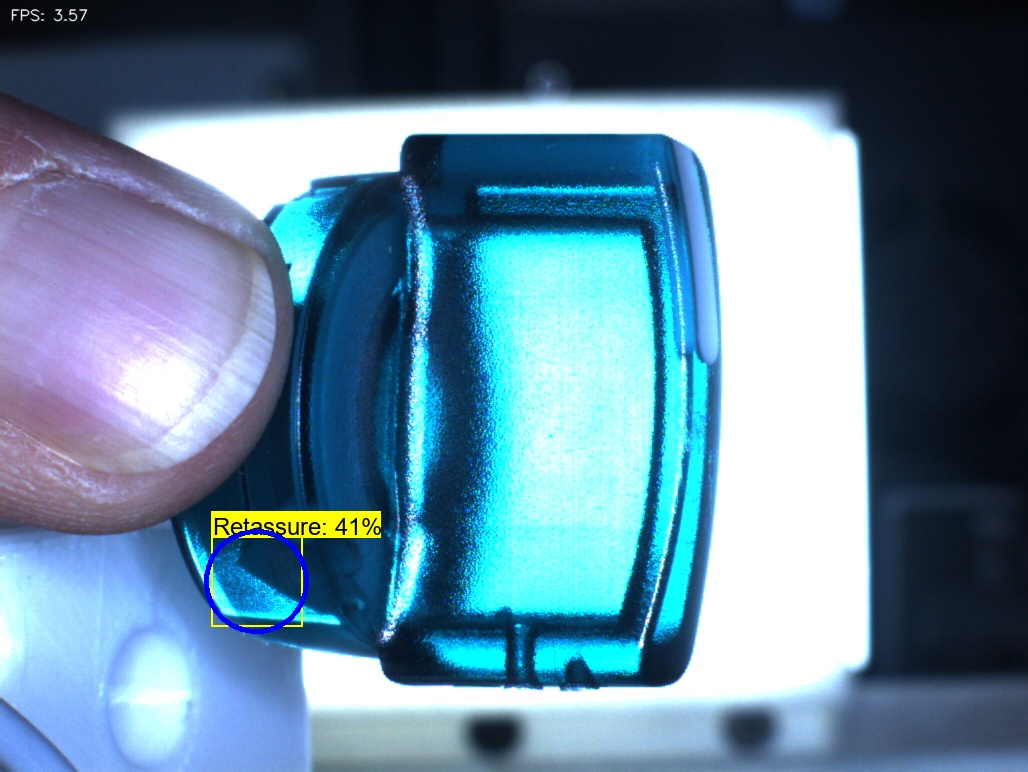Bulle: (544, 620, 620, 720)
